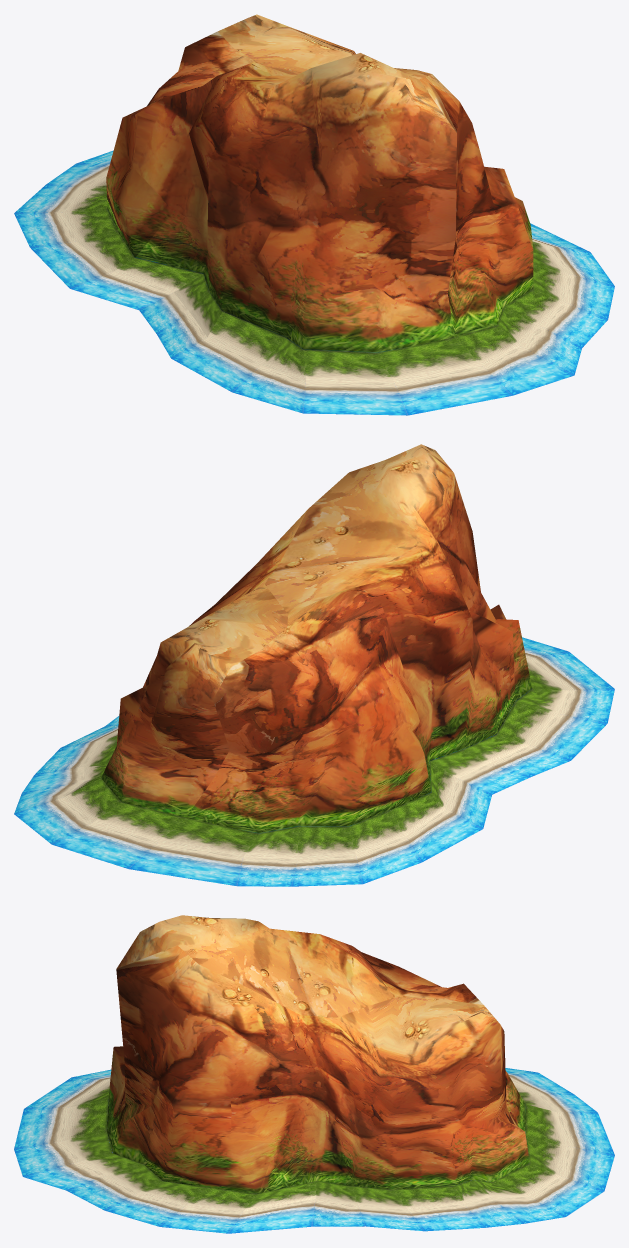
File: bch_island2.fbx
The picture shows the model from 3 angles, top to bottom: view 1: azimuth 30°, elevation 25°; view 2: azimuth 150°, elevation 25°; view 3: azimuth 270°, elevation 25°; orthographic projection. The views are drawn at different scales.
Visible parts, largest first — view 1: bch_island2; view 2: bch_island2; view 3: bch_island2.
Part boxes in pixels (left/top/right/bottom): bch_island2: left=14, top=14, right=614, bottom=415; bch_island2: left=14, top=444, right=614, bottom=886; bch_island2: left=14, top=915, right=614, bottom=1233.
Size of the model in its own units: 9042 by 5234 by 13071.
